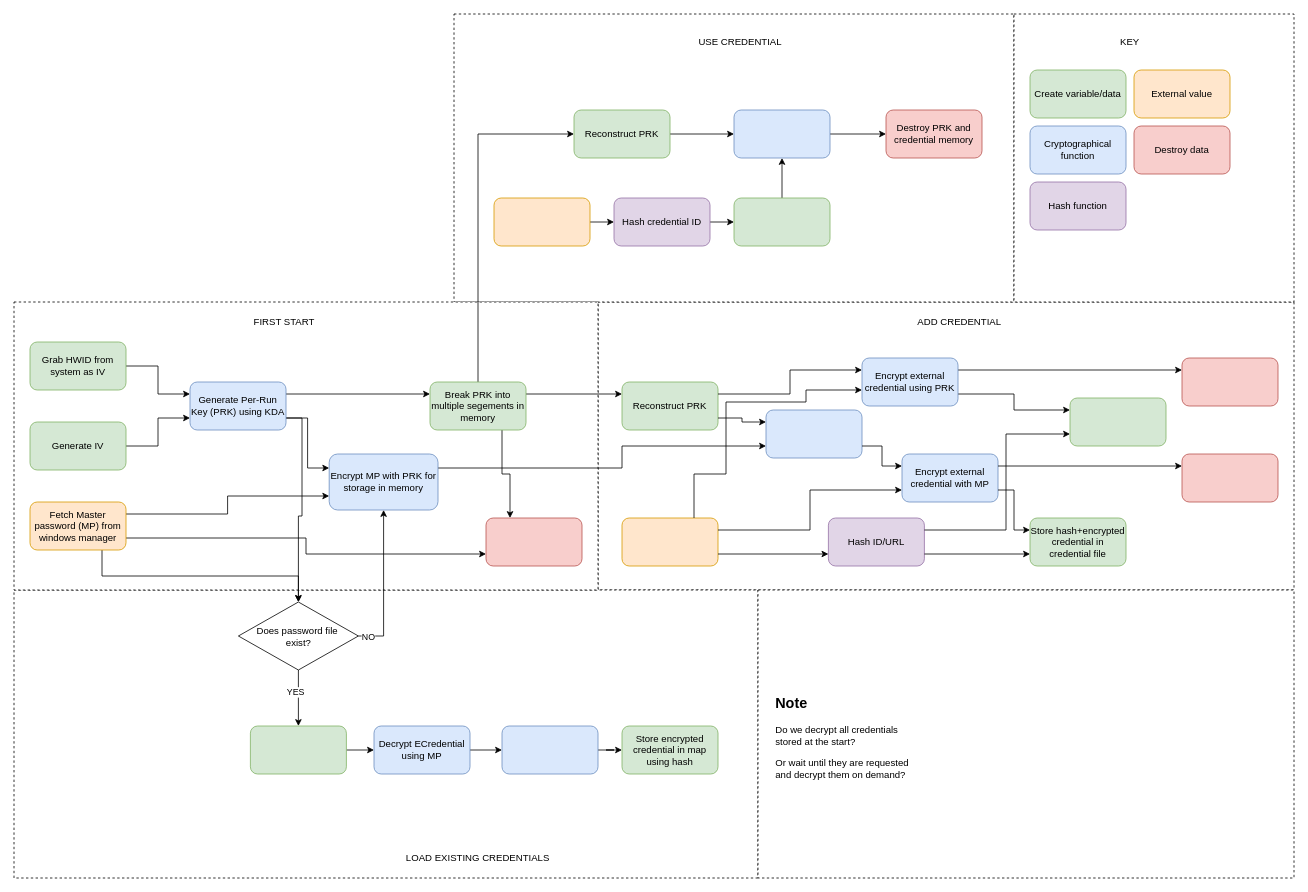
This 1308x892 diagram has some shape labels left out. The centre of each missing label's shape, as x and y in pixels:
"Decrypt credential" goes at (x=781, y=133).
"Decrypt MP" goes at (x=813, y=433).
"Destory MP and complete PRK" goes at (x=533, y=541).
"Destory MP memory" goes at (x=1229, y=477).
"Destroy PRK memory" goes at (x=1229, y=381).
"Encrypt Credential with PRK" goes at (x=549, y=749).
"Get encrypted credential from the map" goes at (x=781, y=221).
"Get hashes + ECredentials" goes at (x=298, y=749).
"Obtain credential ID" goes at (x=541, y=221).
"Obtain external credential and ID/URL" goes at (x=669, y=541).
"Store encrypted credential in a map using the hash" goes at (x=1117, y=421).
